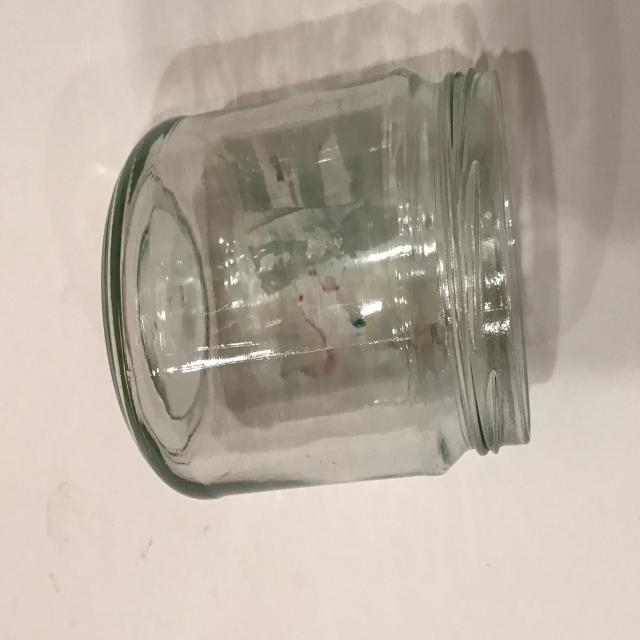glass: (101, 63, 532, 498)
